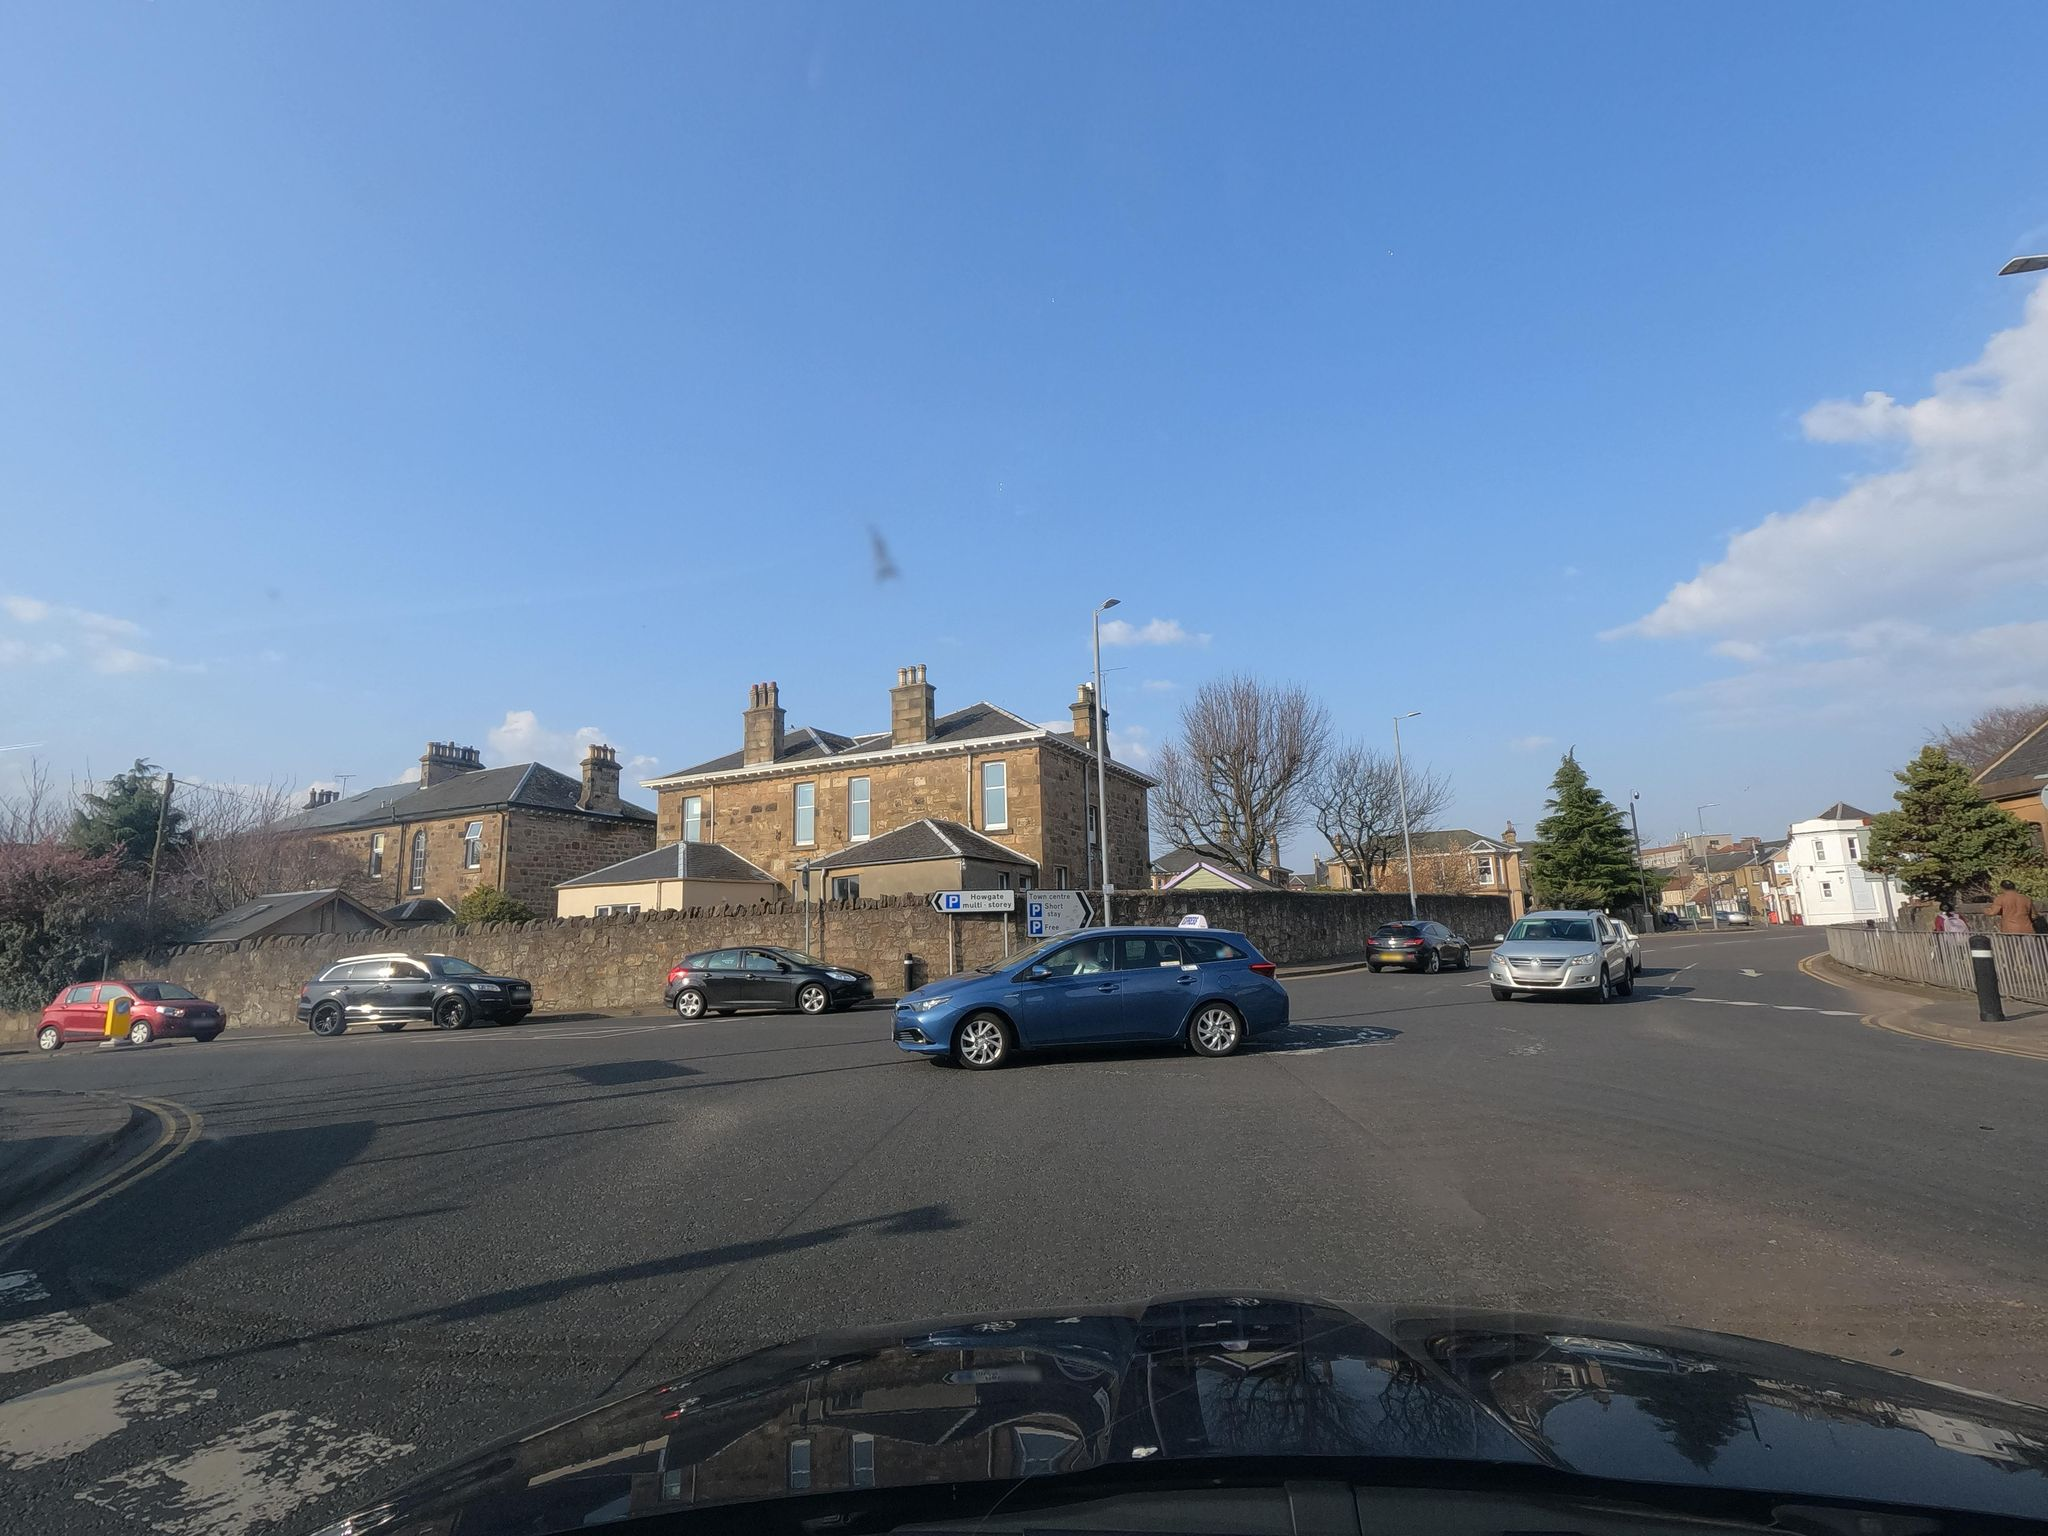car: (885, 912, 1290, 1070), (295, 950, 534, 1037), (660, 945, 874, 1018), (35, 978, 226, 1052), (1487, 907, 1635, 1002), (1364, 920, 1472, 973), (1608, 920, 1642, 975)
